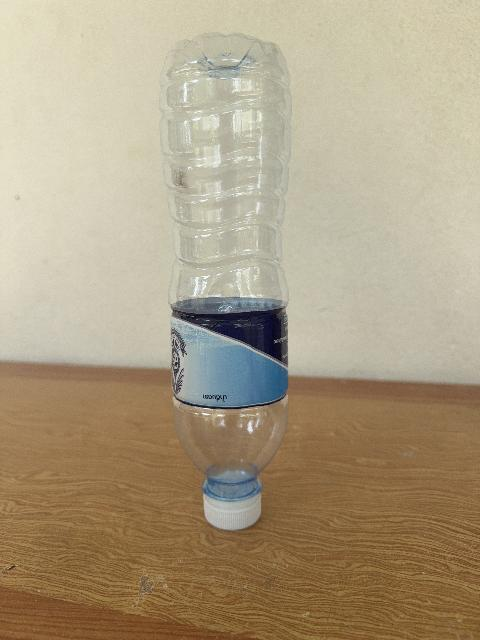bottle: (160, 34, 290, 529)
